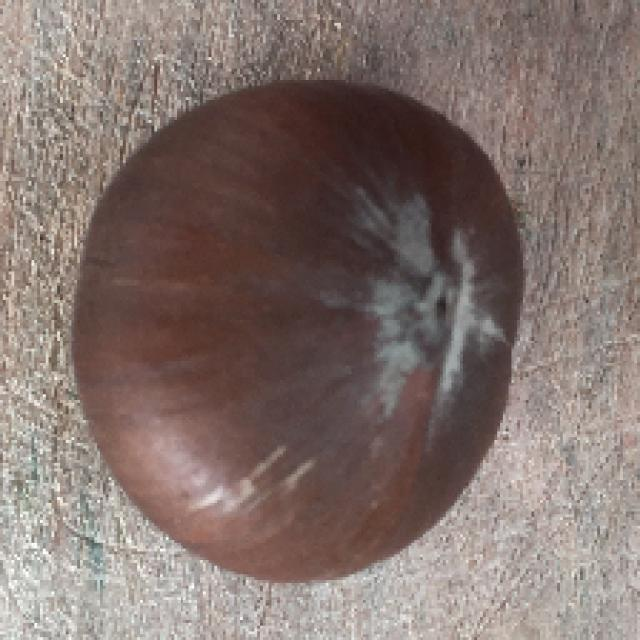qualityHazelnut: (77, 77, 531, 580)
